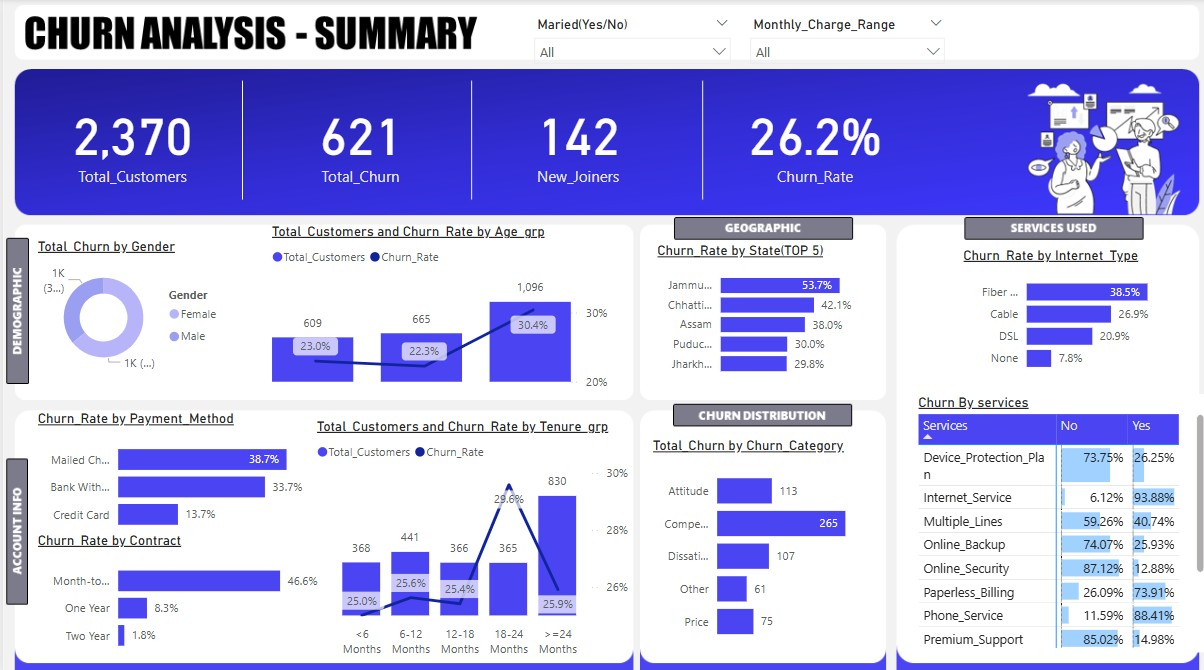

The page's visual inventory and layout, read from the dashboard file:
{"tool":"powerbi","page":{"name":"Summary","canvas":[1280,720],"ordinal":0},"visuals":[{"type":"card","fields":{"Values":["tbl_measures.Total_Customers"]},"box":[31.6,89.5,210.5,122.8],"z":0},{"type":"card","fields":{"Values":["tbl_measures.Total_Churn"]},"box":[273.7,89.5,210.5,122.8],"z":1000},{"type":"card","fields":{"Values":["tbl_measures.New_Joiners"]},"box":[503.5,89.5,210.5,122.8],"z":2000},{"type":"card","fields":{"Values":["tbl_measures.Churn_Rate"]},"box":[756.1,89.5,210.5,122.8],"z":3000},{"type":"donutChart","fields":{"Y":["tbl_measures.Total_Churn"],"Category":["prod_churn_edited.Gender"]},"box":[32,254,210,152],"z":4000},{"type":"lineStackedColumnComboChart","fields":{"Category":["mapping_age_grp.Age_grp"],"Y":["tbl_measures.Total_Customers"],"Y2":["tbl_measures.Churn_Rate"]},"box":[280,238,366,182],"z":5000},{"type":"clusteredBarChart","fields":{"Category":["prod_churn_edited.Payment_Method"],"Y":["tbl_measures.Churn_Rate"]},"box":[32.3,437.1,308.1,138.7],"z":6000},{"type":"clusteredBarChart","fields":{"Category":["prod_churn_edited.Contract"],"Y":["tbl_measures.Churn_Rate"]},"box":[32,566,308,138],"z":7000},{"type":"lineStackedColumnComboChart","fields":{"Category":["mapping_tenure_grp.Tenure_grp"],"Y":["tbl_measures.Total_Customers"],"Y2":["tbl_measures.Churn_Rate"]},"box":[328,446,340,260],"z":8000},{"type":"clusteredBarChart","title":"Churn_Rate by State(TOP 5)","fields":{"Category":["prod_churn_edited.State"],"Y":["tbl_measures.Churn_Rate"]},"box":[688,260,238,150],"z":9000},{"type":"clusteredBarChart","fields":{"Category":["prod_churn_edited.Churn_Category"],"Y":["tbl_measures.Total_Churn"]},"box":[684,466,240,228],"z":10000},{"type":"clusteredBarChart","fields":{"Category":["prod_churn_edited.Internet_Type"],"Y":["tbl_measures.Churn_Rate"]},"box":[1014,264,238,142],"z":11000},{"type":"pivotTable","title":"Churn By services","fields":{"Rows":["prod_services.Services"],"Columns":["prod_services.Status"],"Values":["Sum(prod_services.Churn_Status)"]},"box":[966,420,314,274],"z":12000},{"type":"slicer","fields":{"Values":["prod_churn_edited.Monthly_Charge.1"]},"box":[782,14,226,56],"z":13000},{"type":"slicer","fields":{"Values":["prod_churn_edited.Married"]},"box":[554,14,228,62],"z":14000}]}

Visuals, with their boxes in screenshot pixels (x1, y1, x2, y2), scaled from the page's 1280x720 canvas onto the 1204x670 screenshot:
card - tbl_measures.Total_Customers: (30, 83, 228, 198)
card - tbl_measures.Total_Churn: (257, 83, 455, 198)
card - tbl_measures.New_Joiners: (474, 83, 672, 198)
card - tbl_measures.Churn_Rate: (711, 83, 909, 198)
donutChart - tbl_measures.Total_Churn x prod_churn_edited.Gender: (30, 236, 228, 378)
lineStackedColumnComboChart - mapping_age_grp.Age_grp x tbl_measures.Total_Customers: (263, 221, 608, 391)
clusteredBarChart - prod_churn_edited.Payment_Method x tbl_measures.Churn_Rate: (30, 407, 320, 536)
clusteredBarChart - prod_churn_edited.Contract x tbl_measures.Churn_Rate: (30, 527, 320, 655)
lineStackedColumnComboChart - mapping_tenure_grp.Tenure_grp x tbl_measures.Total_Customers: (309, 415, 628, 657)
"Churn_Rate by State(TOP 5)" clusteredBarChart: (647, 242, 871, 382)
clusteredBarChart - prod_churn_edited.Churn_Category x tbl_measures.Total_Churn: (643, 434, 869, 646)
clusteredBarChart - prod_churn_edited.Internet_Type x tbl_measures.Churn_Rate: (954, 246, 1178, 378)
"Churn By services" pivotTable: (909, 391, 1203, 646)
slicer - prod_churn_edited.Monthly_Charge.1: (736, 13, 948, 65)
slicer - prod_churn_edited.Married: (521, 13, 736, 71)
